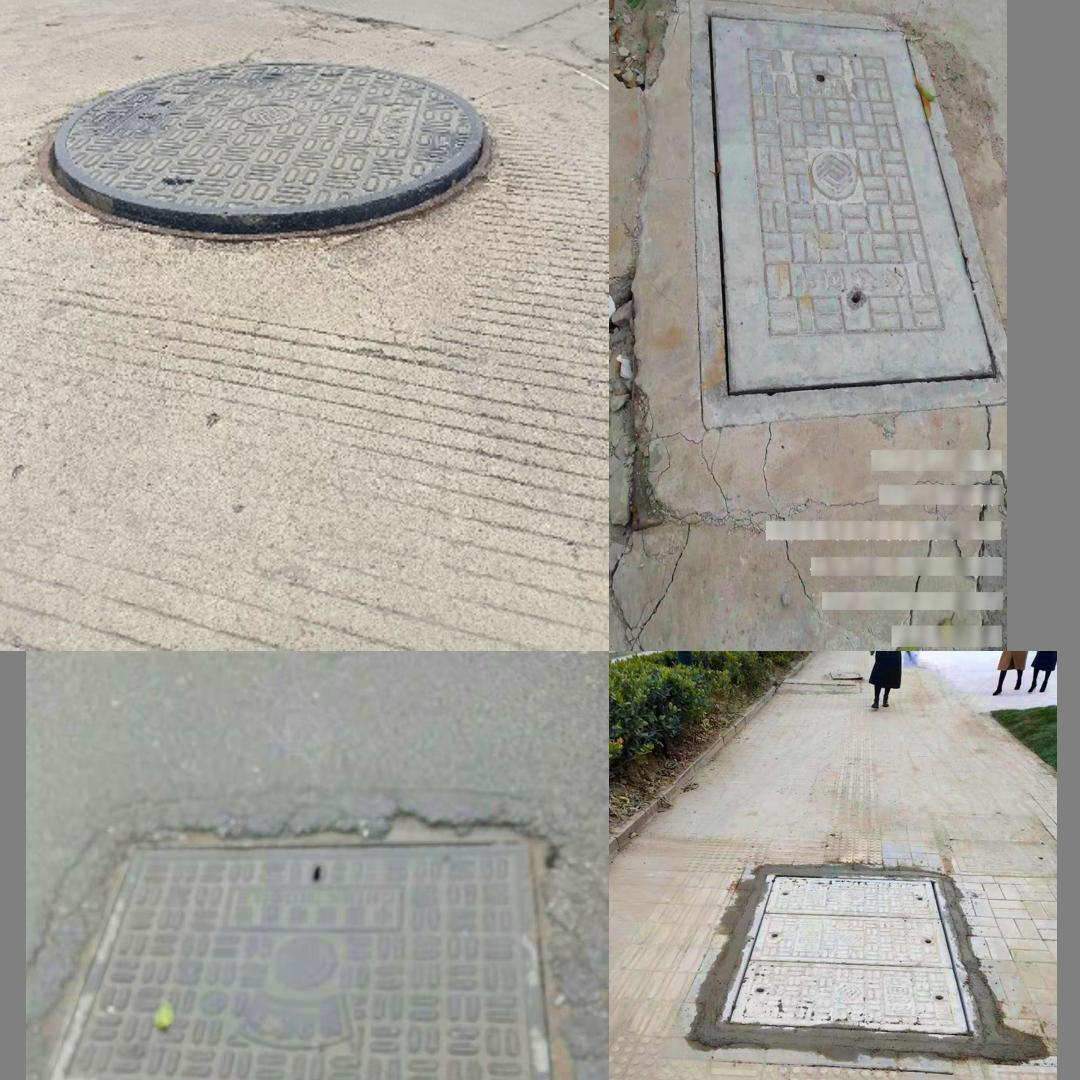good: (690, 0, 1006, 427), (46, 832, 556, 1080), (36, 60, 491, 242), (726, 876, 965, 1026)
